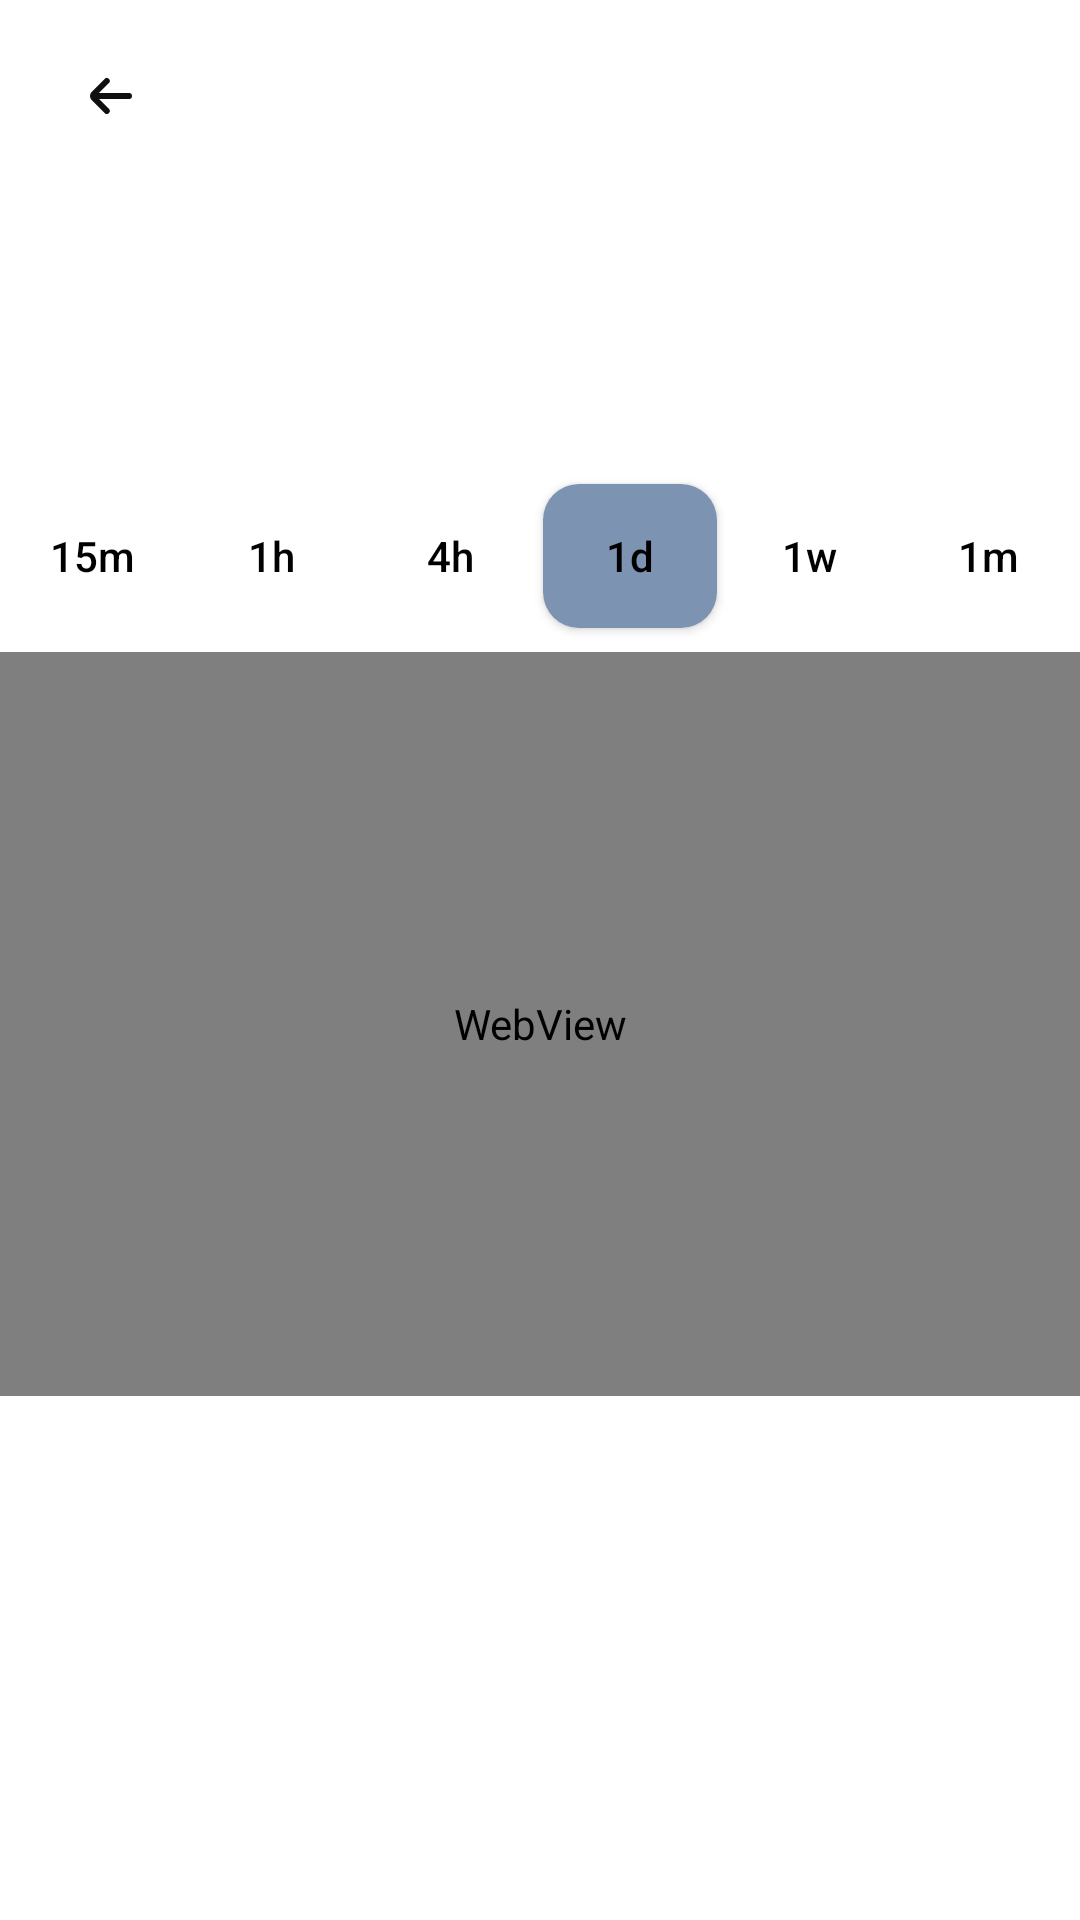

Icons on this 1080w x 1920h Android screen, each with the point to tap as (x=x, y=y):
back stack: (x=111, y=95)
